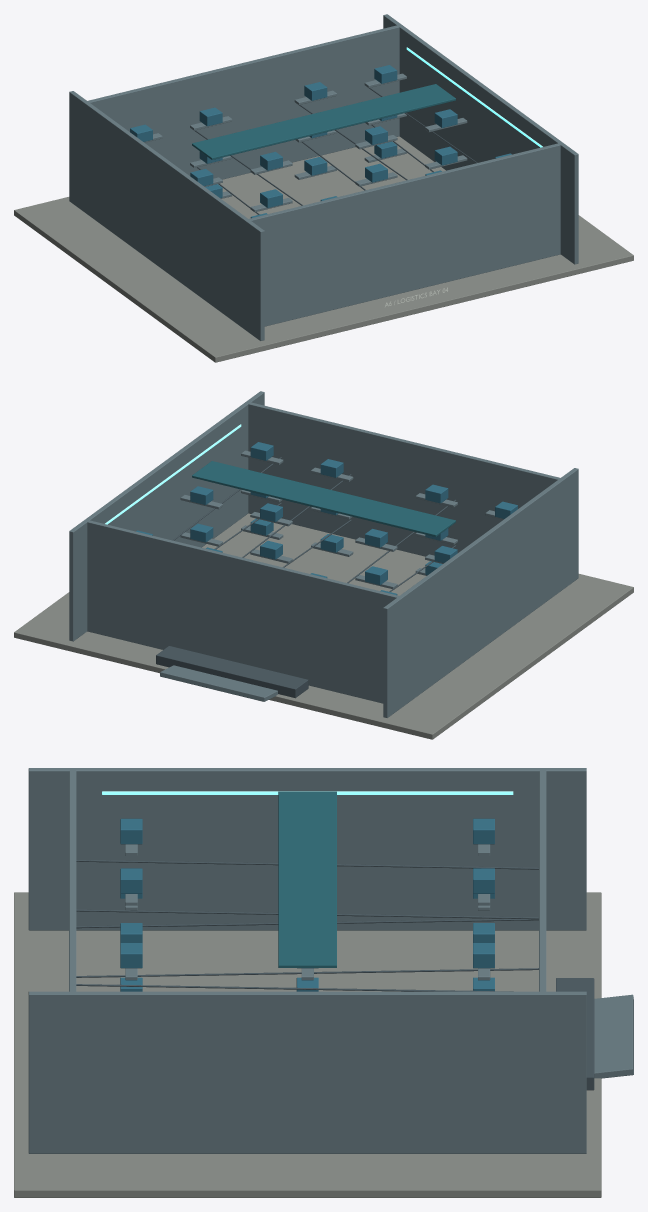
The model's file is warehouse_scene_d0.glb.
3 renders of one model, top to bottom at view 1: azimuth 30°, elevation 25°; view 2: azimuth 150°, elevation 25°; view 3: azimuth 270°, elevation 25°, orthographic. The views are drawn at different scales.
Visible parts, largest first — view 1: Warehouse end wall.002, Warehouse floor, Warehouse end wall, Warehouse end wall.003, Warehouse end wall.001, Skylight; view 2: Warehouse end wall.003, Warehouse floor, Warehouse end wall, Warehouse end wall.002, Warehouse end wall.001, Skylight, Loading dock, Dock ramp; view 3: Warehouse end wall.001, Warehouse end wall, Warehouse floor, Skylight, Dock ramp, Warehouse end wall.002, Warehouse end wall.003, Wall light strip, Loading dock, Shelf diagonal.002, Shelf diagonal.001, Shelf diagonal.005 (+6 smaller).
Boxes of the visible parts, x1,y1,x2,y2 form: Warehouse end wall.002: (249, 143, 560, 326); Warehouse floor: (14, 136, 633, 362); Warehouse end wall: (69, 91, 264, 340); Warehouse end wall.003: (87, 25, 400, 179); Warehouse end wall.001: (383, 14, 578, 264); Skylight: (192, 84, 455, 159); Warehouse end wall.003: (87, 520, 399, 703); Warehouse floor: (14, 513, 633, 739); Warehouse end wall: (383, 468, 578, 717); Warehouse end wall.002: (247, 402, 560, 556); Warehouse end wall.001: (69, 391, 264, 641); Skylight: (192, 461, 455, 536); Loading dock: (156, 646, 308, 698); Dock ramp: (160, 665, 277, 701); Warehouse end wall.001: (28, 991, 586, 1153); Warehouse end wall: (28, 768, 586, 930); Warehouse floor: (14, 892, 601, 1197); Skylight: (278, 791, 336, 967); Dock ramp: (594, 994, 633, 1078); Warehouse end wall.002: (69, 770, 76, 992); Warehouse end wall.003: (539, 769, 546, 992); Wall light strip: (102, 791, 513, 794); Loading dock: (556, 978, 594, 1090); Shelf diagonal.002: (76, 968, 538, 977); Shelf diagonal.001: (76, 860, 538, 869); Shelf diagonal.005: (76, 984, 513, 991).
Bounding box in the file's own units: 24 × 6.42 × 21.11.
